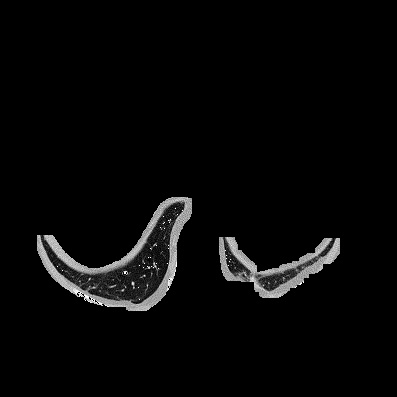PN: (122, 270, 128, 276)
